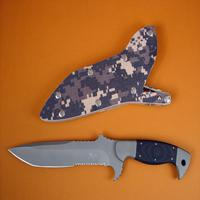knife: (7, 131, 192, 185)
